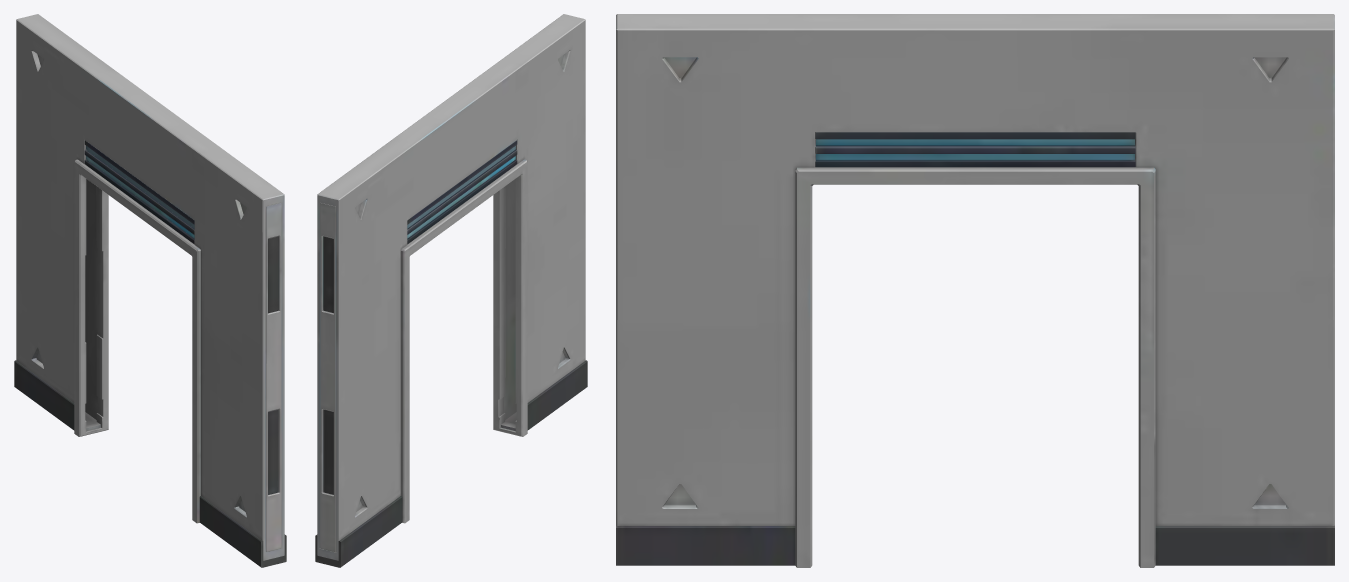
Rendered from SM_DoorBase_SF_d485fd.glb.
The picture shows the model from 3 angles, left to right: view 1: azimuth 30°, elevation 25°; view 2: azimuth 150°, elevation 25°; view 3: azimuth 270°, elevation 25°; orthographic projection. The views are drawn at different scales.
Bounding box in the file's own units: 0.2778 × 3.29 × 4.
Materials: 1 (1 with a texture image).
